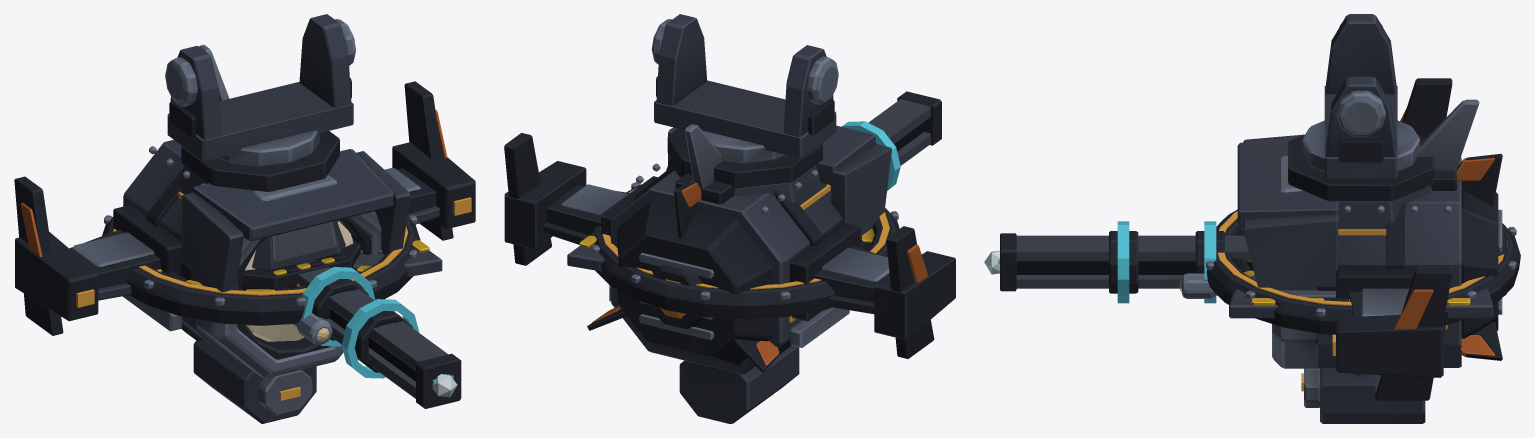
The model's file is citadel1.glb.
The picture shows the model from 3 angles, left to right: view 1: azimuth 30°, elevation 25°; view 2: azimuth 150°, elevation 25°; view 3: azimuth 270°, elevation 25°; orthographic projection. The views are drawn at different scales.
Visible parts, largest first — view 1: sentry_body, lancer_mount_body, lancer_body, hatch_ring_body, drone_body, lancer_glow, sentry_glow, hatch_leaf_body, hatch_ring_glow, hatch_body; view 2: sentry_body, lancer_mount_body, hatch_ring_body, drone_body, lancer_body, dart_body, lancer_glow, hatch_ring_glow, hatch_leaf_body; view 3: sentry_body, lancer_mount_body, lancer_body, drone_body, hatch_ring_body, dart_body, hatch_leaf_body, lancer_glow, hatch_ring_glow, hatch_body.
Boxes of the visible parts, left/top/right/bottom form: sentry_body: left=15, top=45, right=475, bottom=423; lancer_mount_body: left=165, top=14, right=361, bottom=290; lancer_body: left=298, top=267, right=461, bottom=408; hatch_ring_body: left=102, top=215, right=420, bottom=325; drone_body: left=14, top=81, right=453, bottom=335; lancer_glow: left=302, top=267, right=457, bottom=397; sentry_glow: left=76, top=197, right=471, bottom=400; hatch_leaf_body: left=353, top=237, right=442, bottom=276; hatch_ring_glow: left=113, top=226, right=408, bottom=295; hatch_body: left=229, top=238, right=352, bottom=359; sentry_body: left=504, top=124, right=955, bottom=423; lancer_mount_body: left=651, top=14, right=838, bottom=205; hatch_ring_body: left=588, top=182, right=899, bottom=319; drone_body: left=504, top=133, right=934, bottom=358; lancer_body: left=868, top=91, right=941, bottom=165; dart_body: left=587, top=181, right=779, bottom=372; lancer_glow: left=841, top=121, right=900, bottom=190; hatch_ring_glow: left=600, top=188, right=889, bottom=289; hatch_leaf_body: left=567, top=232, right=604, bottom=271; sentry_body: left=1237, top=99, right=1502, bottom=423; lancer_mount_body: left=1288, top=14, right=1434, bottom=290; lancer_body: left=1000, top=231, right=1250, bottom=293; drone_body: left=1375, top=78, right=1507, bottom=400; hatch_ring_body: left=1206, top=209, right=1520, bottom=334; dart_body: left=1248, top=153, right=1502, bottom=360; hatch_leaf_body: left=1229, top=275, right=1493, bottom=318; lancer_glow: left=984, top=221, right=1216, bottom=303; hatch_ring_glow: left=1217, top=211, right=1504, bottom=305; hatch_body: left=1182, top=273, right=1381, bottom=393.
Bounding box in the file's own units: 10.3 × 8.85 × 11.74.
